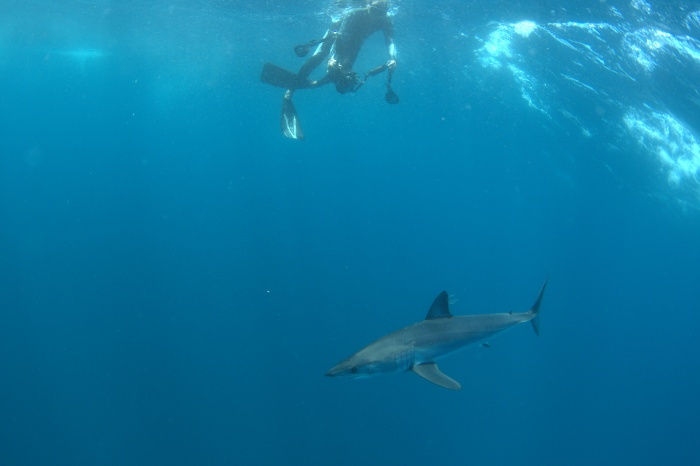Mako: (315, 273, 555, 394)
